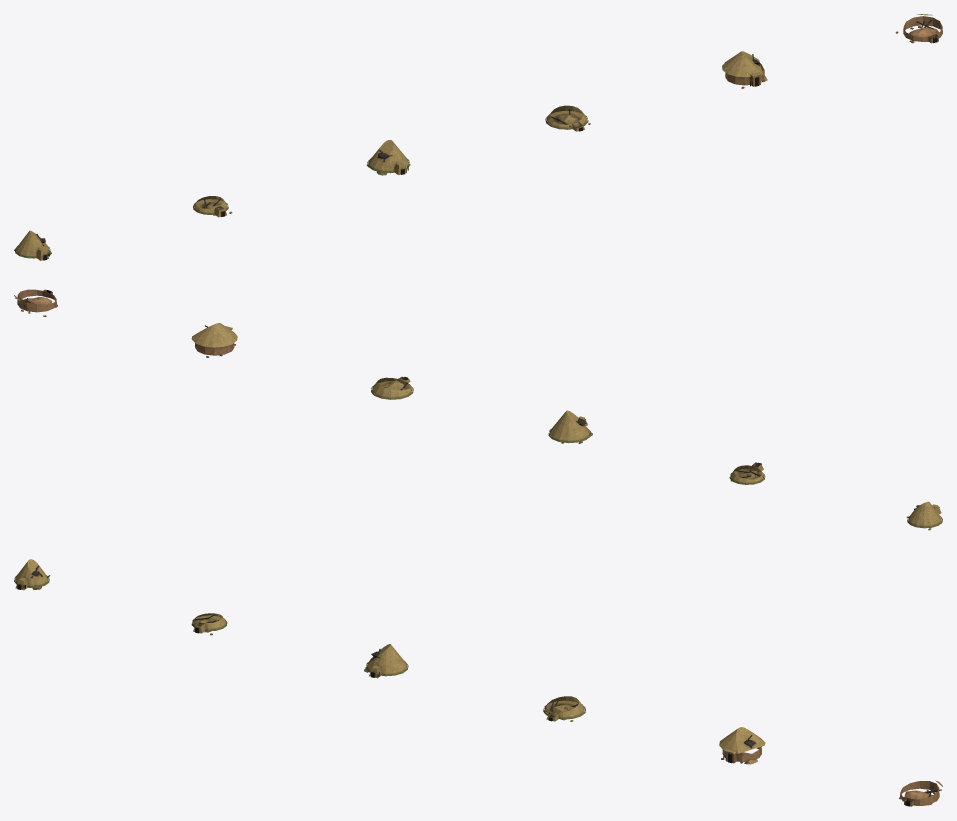
Rendered from stone-korea-houses-damage.glb.
3 views of the same model, one above another, from view 1: azimuth 30°, elevation 25°; view 2: azimuth 150°, elevation 25°; view 3: azimuth 330°, elevation 25° (orthographic).
Visible parts, largest first — view 1: LOD0.004, LOD0.002, LOD0.005, LOD0.003, LOD0, LOD0.001; view 2: LOD0.004, LOD0.002, LOD0.005, LOD0.003, LOD0, LOD0.001; view 3: LOD0.004, LOD0.002, LOD0.005, LOD0.003, LOD0, LOD0.001.
Part boxes in pixels (box(x1,y1,x2,y2)): LOD0.004: box(722, 51, 767, 88); LOD0.002: box(366, 140, 410, 175); LOD0.005: box(895, 14, 942, 43); LOD0.003: box(545, 105, 590, 131); LOD0: box(14, 230, 51, 260); LOD0.001: box(193, 196, 232, 217); LOD0.004: box(191, 323, 237, 357); LOD0.002: box(548, 410, 592, 443); LOD0.005: box(14, 289, 57, 316); LOD0.003: box(371, 376, 413, 399); LOD0: box(906, 501, 942, 530); LOD0.001: box(729, 462, 765, 484); LOD0.004: box(719, 727, 765, 764); LOD0.002: box(364, 644, 408, 678); LOD0.005: box(899, 780, 942, 806); LOD0.003: box(543, 696, 585, 721); LOD0: box(14, 559, 50, 590); LOD0.001: box(191, 613, 227, 635).
Size of what is drawn, in the model's own units: 15.55 by 0.4371 by 0.7632.
Materials: 1 (1 with a texture image).
